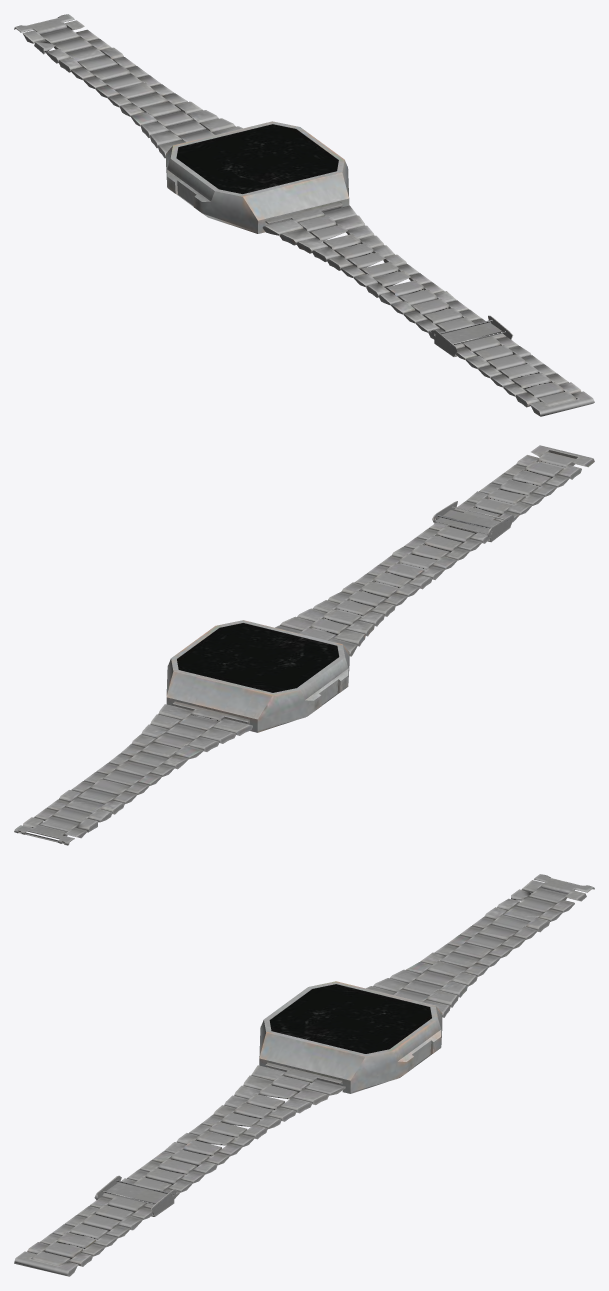
File: gps.glb
The picture shows the model from 3 angles, top to bottom: view 1: azimuth 30°, elevation 25°; view 2: azimuth 150°, elevation 25°; view 3: azimuth 330°, elevation 25°; orthographic projection.
Bounding box in the file's own units: 0.0347 × 0.00834 × 0.2172.
Materials: 2 (2 with a texture image).
